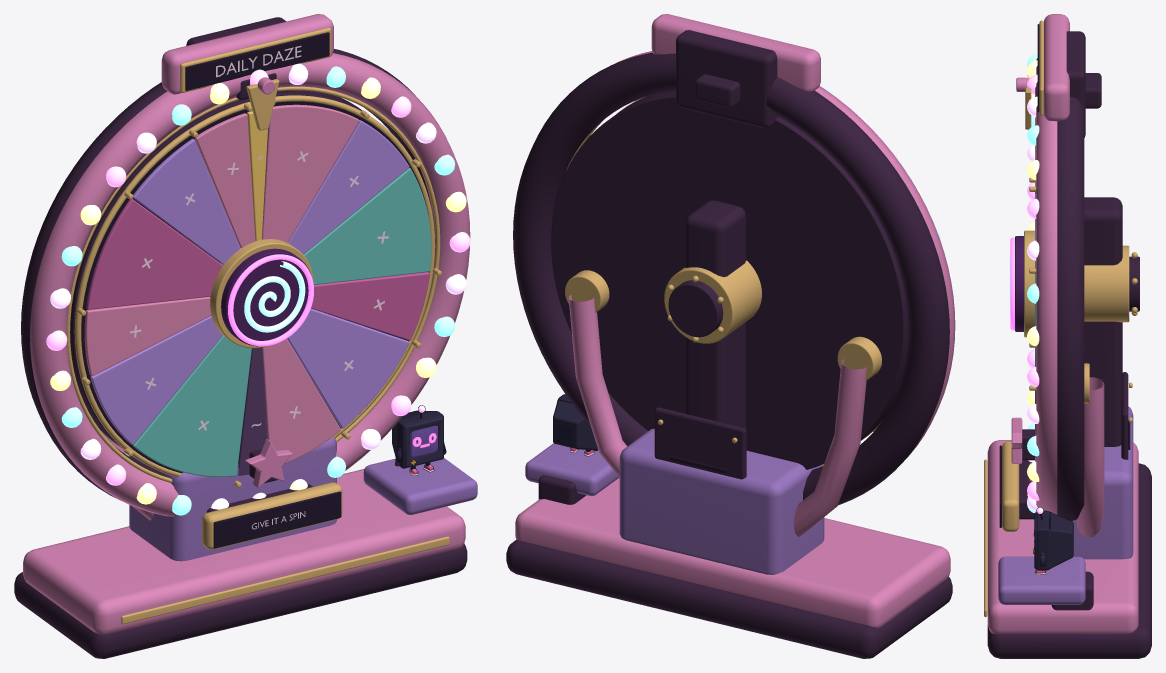
File: wheel.glb
3 views of the same model, side by side, from view 1: azimuth 30°, elevation 25°; view 2: azimuth 150°, elevation 25°; view 3: azimuth 270°, elevation 25° (orthographic). The views are drawn at different scales.
Parts seen in each view (by area): view 1: bezel_lacquer, base, foot, sector_prize_07, sector_prize_10, sector_prize_03, sector_prize_01, sector_prize_05, pedestal, sector_prize_08, sector_prize_11, sector_prize_02 (+28 smaller); view 2: rotor_back, bezel_back, base, pedestal, foot, rear_stanchion, title_support, support_arm_-1, service_panel, support_arm_1, title_frame, bearing (+8 smaller); view 3: bezel_back, base, bezel_lacquer, foot, rear_stanchion, pedestal, emi_perch, support_arm_1, bearing, title_frame, EMI_case, status_frame (+14 smaller).
Boxes of the visible parts, bbox=[...] form: bezel_lacquer: bbox=[30, 53, 470, 516]; base: bbox=[23, 469, 465, 634]; foot: bbox=[14, 543, 467, 658]; sector_prize_07: bbox=[132, 335, 251, 476]; sector_prize_10: bbox=[86, 199, 222, 309]; sector_prize_03: bbox=[303, 167, 431, 284]; sector_prize_01: bbox=[262, 104, 359, 242]; sector_prize_05: bbox=[287, 308, 409, 428]; pedestal: bbox=[129, 438, 336, 561]; sector_prize_08: bbox=[90, 316, 222, 444]; sector_prize_11: bbox=[133, 138, 240, 264]; sector_prize_02: bbox=[287, 120, 409, 254]; rotor_back: bbox=[551, 90, 908, 469]; bezel_back: bbox=[513, 52, 949, 505]; base: bbox=[515, 477, 950, 627]; pedestal: bbox=[619, 428, 824, 574]; foot: bbox=[506, 539, 952, 658]; rear_stanchion: bbox=[685, 200, 746, 429]; title_support: bbox=[676, 30, 778, 128]; support_arm_-1: bbox=[793, 359, 866, 536]; service_panel: bbox=[654, 407, 746, 479]; support_arm_1: bbox=[568, 295, 627, 477]; title_frame: bbox=[651, 14, 820, 91]; bearing: bbox=[664, 260, 761, 343]; bezel_back: bbox=[1057, 96, 1084, 520]; base: bbox=[987, 440, 1138, 634]; bezel_lacquer: bbox=[1036, 58, 1057, 514]; foot: bbox=[987, 463, 1151, 658]; rear_stanchion: bbox=[1084, 197, 1122, 446]; pedestal: bbox=[1072, 406, 1133, 559]; emi_perch: bbox=[998, 556, 1085, 604]; support_arm_1: bbox=[1076, 377, 1104, 537]; bearing: bbox=[1084, 245, 1129, 322]; title_frame: bbox=[1043, 14, 1069, 121]; EMI_case: bbox=[1036, 510, 1073, 570]; status_frame: bbox=[1002, 441, 1019, 531].
Size of the model in its own units: 1.81 by 2.2 by 0.634.
65 materials, 1 textured.
